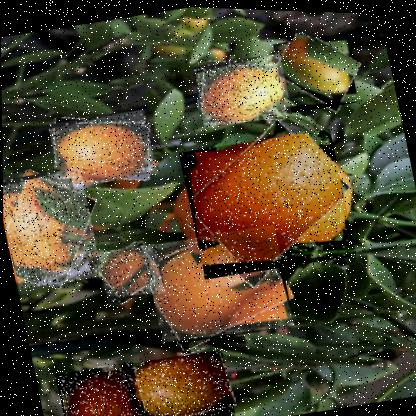orange: (176, 121, 355, 282), (139, 218, 292, 348), (2, 163, 101, 292), (45, 104, 157, 191), (189, 47, 291, 129), (118, 343, 234, 415), (270, 26, 362, 114), (51, 357, 145, 415), (94, 239, 164, 303)
